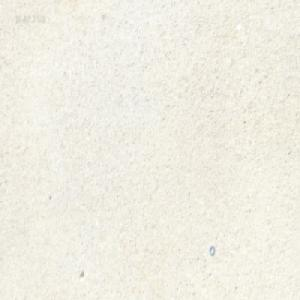Washer: (209, 244, 214, 255)
